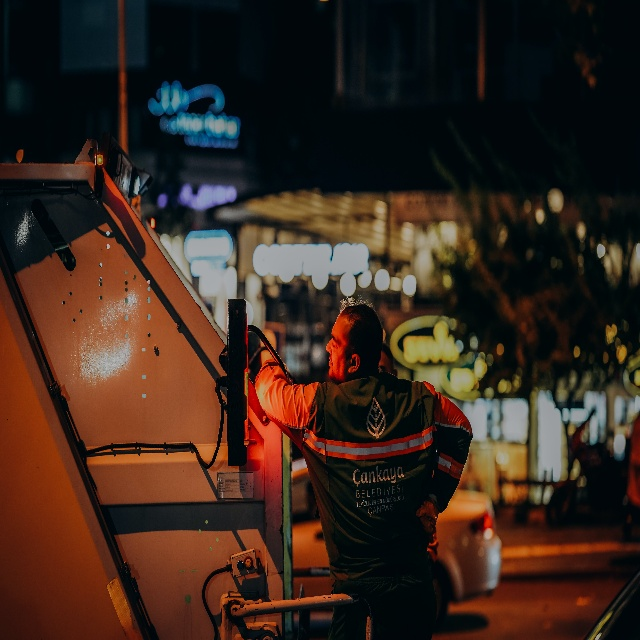Guantes: (415, 497, 440, 536)
